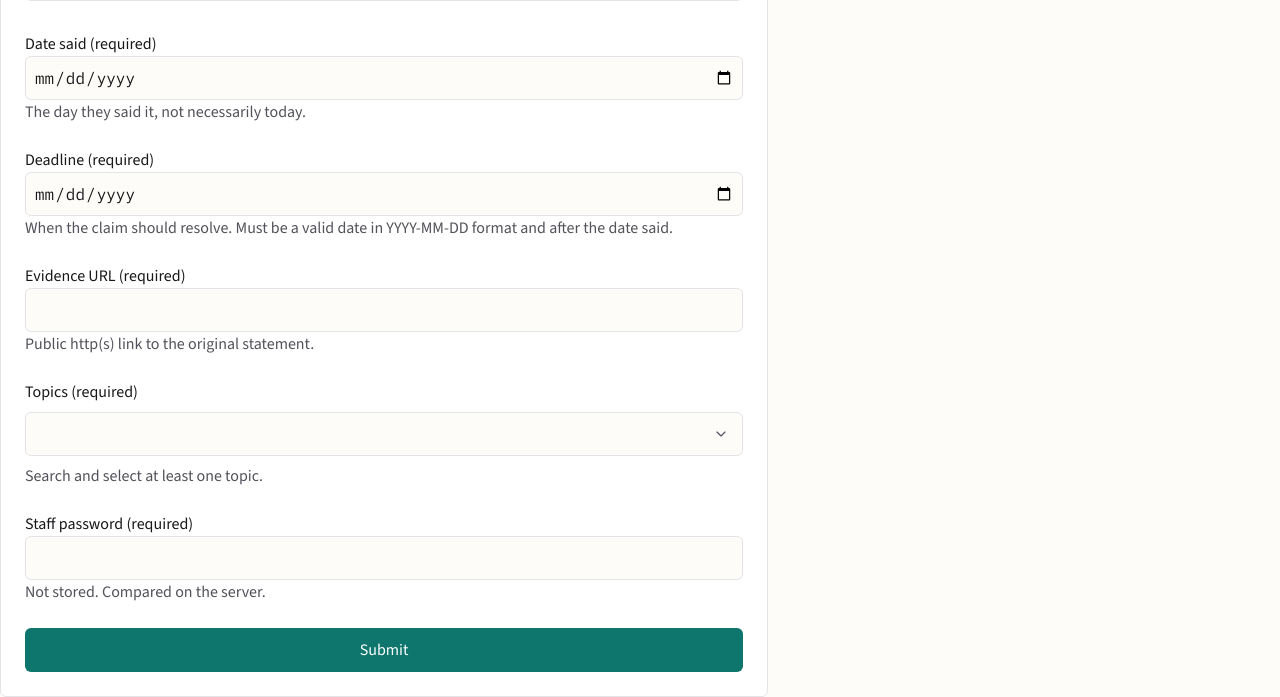
StaffAddForm › given parent and child topics, should group each child under its parents.
(page scrolled)
Step 1. Click the button named "Topics" → (721,434), box 699,412 -> 743,456
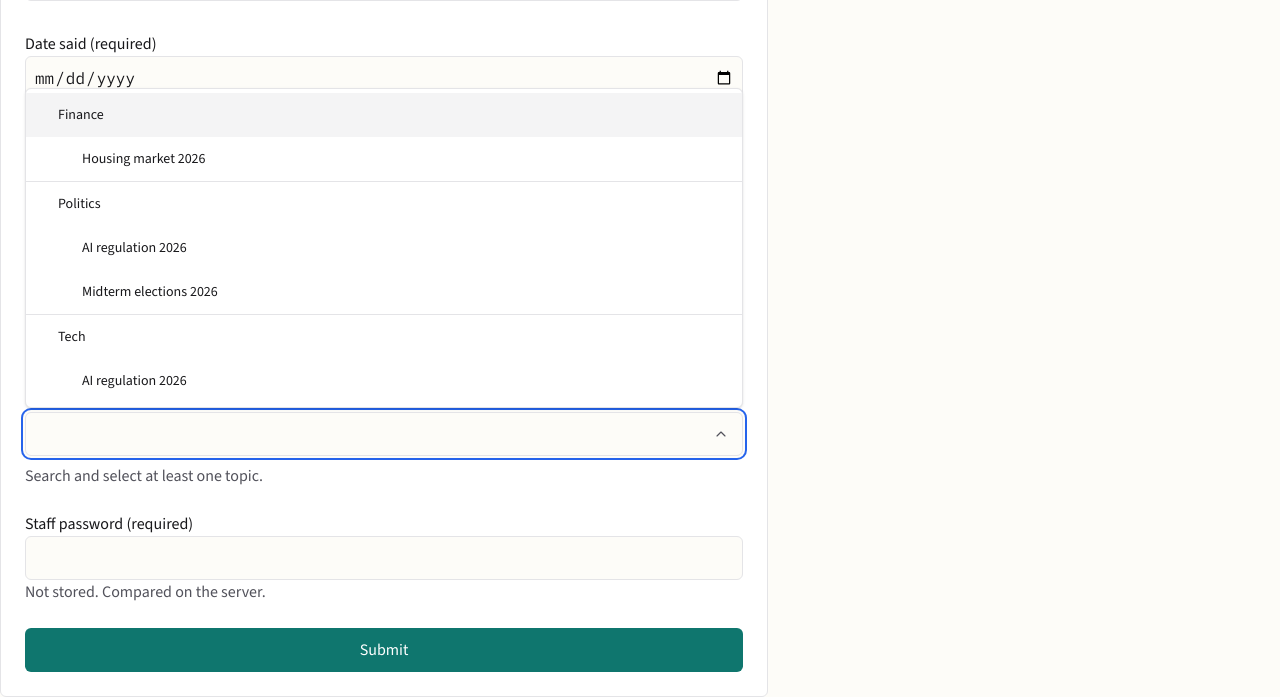
Check: the options read "Politics", "AI regulation 2026", "Midterm elections 2026", in this order, box 58,194 -> 101,213; 82,238 -> 187,257; 82,282 -> 218,301
Check: the option "AI regulation 2026" below "Tech" is shown, box 82,371 -> 187,390
Check: the option "Housing market 2026" is shown, box 82,149 -> 206,168
